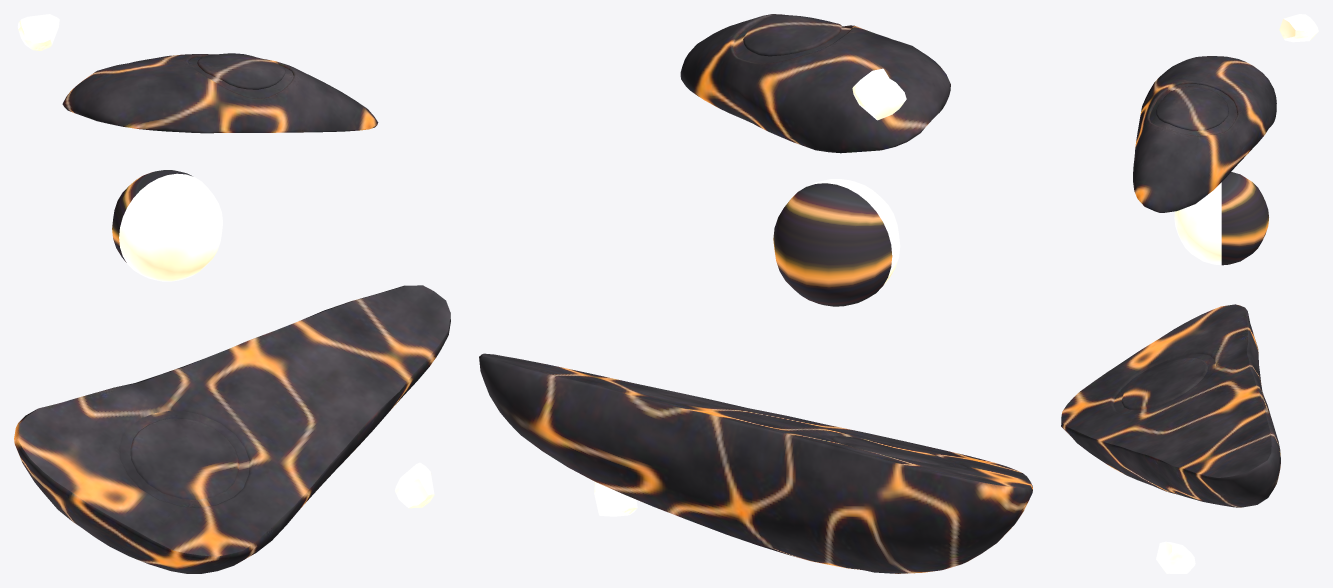
Rendered from sky_decor_lantern_v35.glb.
3 renders of one model, left to right at view 1: azimuth 30°, elevation 25°; view 2: azimuth 150°, elevation 25°; view 3: azimuth 270°, elevation 25°, orthographic. The views are drawn at different scales.
Visible parts, largest first — view 1: caos_drs_kodalantern_01b; view 2: caos_drs_kodalantern_01b; view 3: caos_drs_kodalantern_01b.
Boxes of the visible parts, x1,y1,x2,y2 form: caos_drs_kodalantern_01b: (14,14,450,573); caos_drs_kodalantern_01b: (479,14,1032,573); caos_drs_kodalantern_01b: (1061,14,1318,573).
Size of the model in its own units: 1.26 by 1.37 by 0.7403.
Materials: 1 (1 with a texture image).
